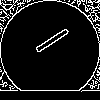I: (25, 25, 72, 62)
